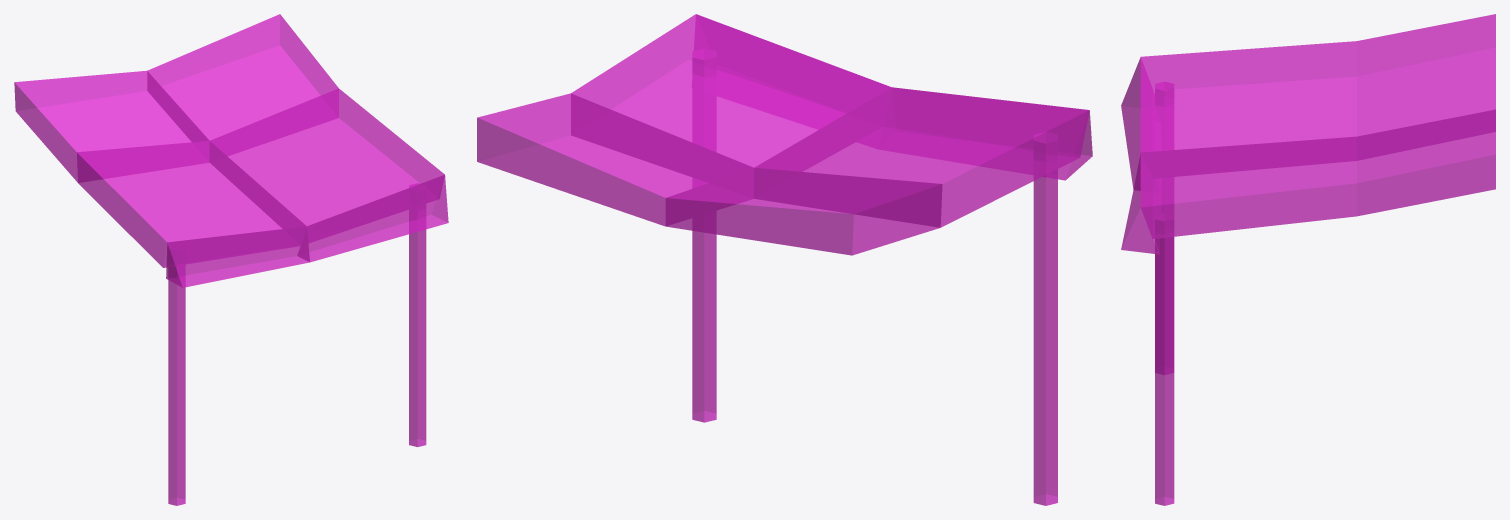
File: SM_Prop_Awning_01_Collision.fbx
3 renders of one model, left to right at view 1: azimuth 30°, elevation 25°; view 2: azimuth 150°, elevation 25°; view 3: azimuth 270°, elevation 25°, orthographic. The views are drawn at different scales.
Parts seen in each view (by area): view 1: SM_Prop_Awning_01_Collision; view 2: SM_Prop_Awning_01_Collision; view 3: SM_Prop_Awning_01_Collision.
Boxes of the visible parts, left/top/right/bottom form: SM_Prop_Awning_01_Collision: left=14, top=14, right=448, bottom=505; SM_Prop_Awning_01_Collision: left=477, top=14, right=1092, bottom=505; SM_Prop_Awning_01_Collision: left=1121, top=14, right=1495, bottom=505.
Bounding box in the file's own units: 267 × 292 × 281.
